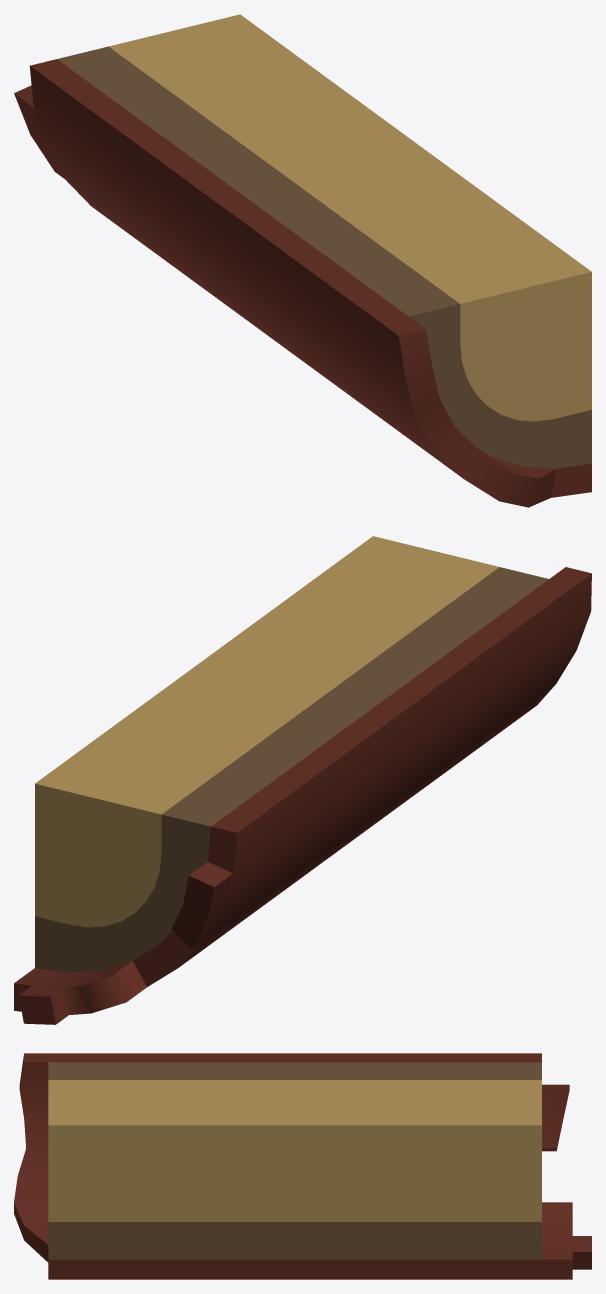
File: SM_Resource_ReddishWood.fbx
The picture shows the model from 3 angles, top to bottom: view 1: azimuth 30°, elevation 25°; view 2: azimuth 150°, elevation 25°; view 3: azimuth 270°, elevation 25°; orthographic projection. The views are drawn at different scales.
Parts seen in each view (by area): view 1: Cylinder; view 2: Cylinder; view 3: Cylinder.
Part boxes in pixels (x1,y1,x2,y2): Cylinder: (14,14,591,507); Cylinder: (14,536,591,1024); Cylinder: (14,1053,591,1279).
Size of the model in its own units: 46.6 by 46.6 by 158.
